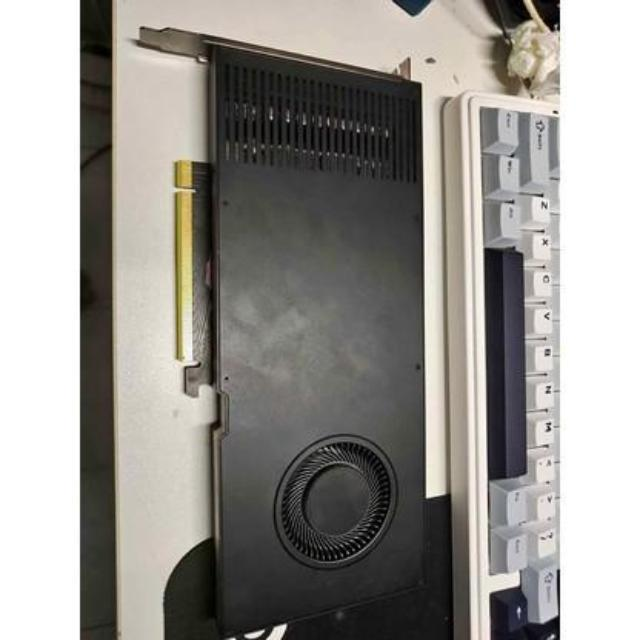GPU: (166, 23, 428, 640)
